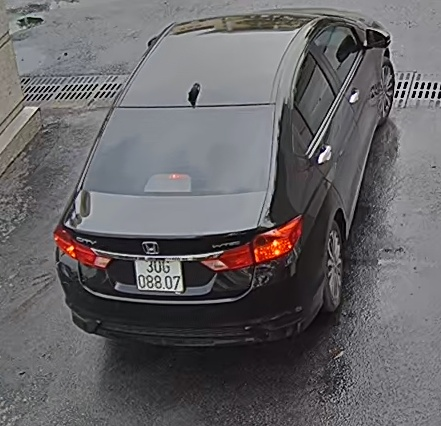vehicle plate: (131, 253, 185, 291)
